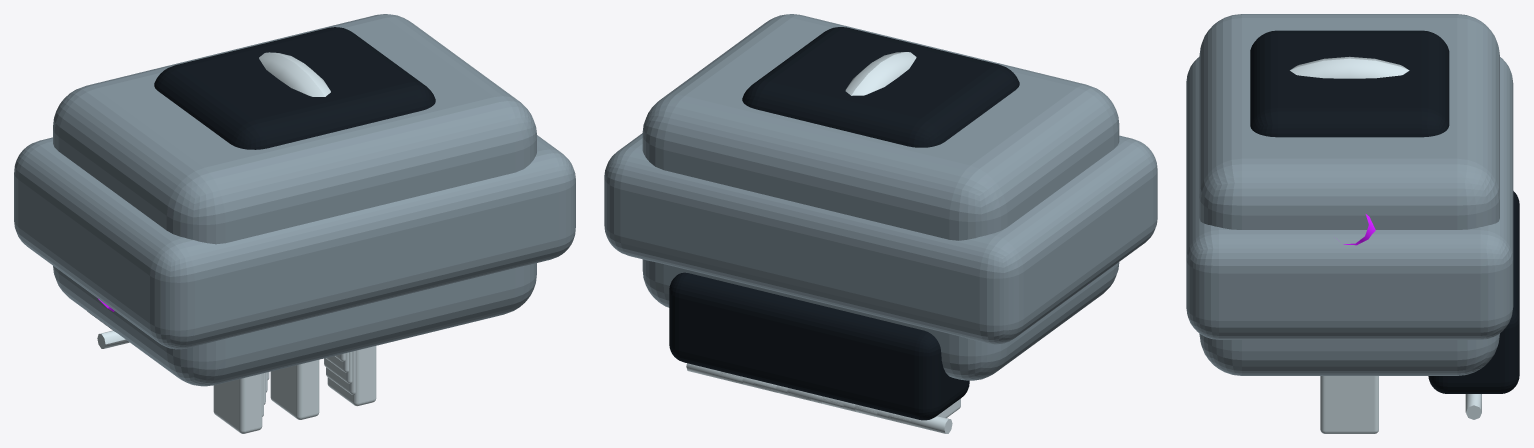
Rendered from electrical_08.glb.
3 renders of one model, left to right at view 1: azimuth 30°, elevation 25°; view 2: azimuth 150°, elevation 25°; view 3: azimuth 270°, elevation 25°, orthographic.
Visible parts, largest first — view 1: asset_mesh__electrical_0314__reference_body, asset_mesh__electrical_0323__controller_case, asset_mesh__electrical_0287__relay_or_fuse_body, asset_mesh__electrical_0287__blade_1, asset_mesh__electrical_0287__blade_2, asset_mesh__electrical_0302__functional_ring, asset_mesh__electrical_0287__blade_3; view 2: asset_mesh__electrical_0314__reference_body, asset_mesh__electrical_0323__controller_case, asset_mesh__electrical_0323__connector_bank, asset_mesh__electrical_0287__relay_or_fuse_body, asset_mesh__electrical_0302__functional_ring, asset_mesh__electrical_0323__pin_1; view 3: asset_mesh__electrical_0314__reference_body, asset_mesh__electrical_0323__controller_case, asset_mesh__electrical_0287__relay_or_fuse_body, asset_mesh__electrical_0323__connector_bank, asset_mesh__electrical_0287__blade_3, asset_mesh__electrical_0302__functional_ring, asset_mesh__electrical_0323__pin_7.
Part boxes in pixels (x1,y1,x2,y2): asset_mesh__electrical_0314__reference_body: [53, 14, 536, 386]; asset_mesh__electrical_0323__controller_case: [14, 135, 575, 349]; asset_mesh__electrical_0287__relay_or_fuse_body: [154, 27, 435, 149]; asset_mesh__electrical_0287__blade_1: [213, 373, 262, 433]; asset_mesh__electrical_0287__blade_2: [270, 360, 319, 419]; asset_mesh__electrical_0302__functional_ring: [259, 52, 330, 96]; asset_mesh__electrical_0287__blade_3: [327, 346, 376, 406]; asset_mesh__electrical_0314__reference_body: [642, 14, 1119, 380]; asset_mesh__electrical_0323__controller_case: [604, 133, 1157, 344]; asset_mesh__electrical_0323__connector_bank: [669, 272, 969, 420]; asset_mesh__electrical_0287__relay_or_fuse_body: [742, 27, 1019, 147]; asset_mesh__electrical_0302__functional_ring: [845, 52, 916, 95]; asset_mesh__electrical_0323__pin_1: [888, 413, 952, 433]; asset_mesh__electrical_0314__reference_body: [1199, 14, 1499, 375]; asset_mesh__electrical_0323__controller_case: [1186, 57, 1513, 339]; asset_mesh__electrical_0287__relay_or_fuse_body: [1250, 30, 1449, 137]; asset_mesh__electrical_0323__connector_bank: [1428, 191, 1519, 393]; asset_mesh__electrical_0287__blade_3: [1320, 376, 1378, 433]; asset_mesh__electrical_0302__functional_ring: [1290, 56, 1409, 78]; asset_mesh__electrical_0323__pin_7: [1465, 394, 1481, 419].
Bounding box in the file's own units: 1.24 × 0.9744 × 0.8568.
